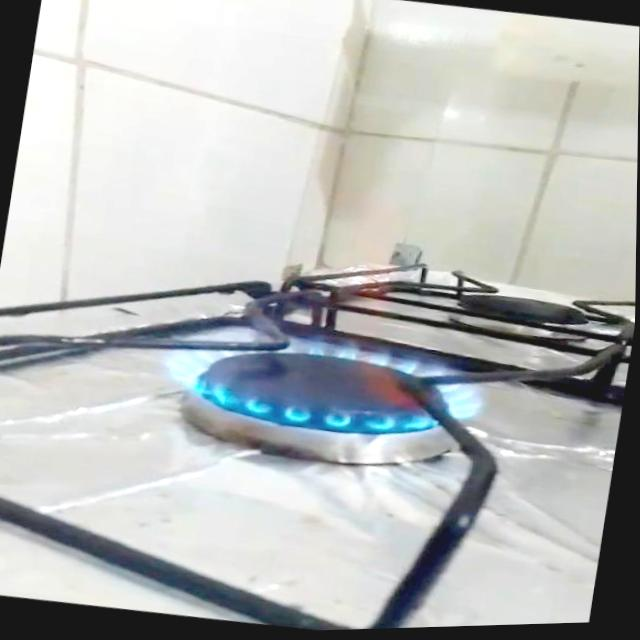helmet: (154, 161, 515, 463)
